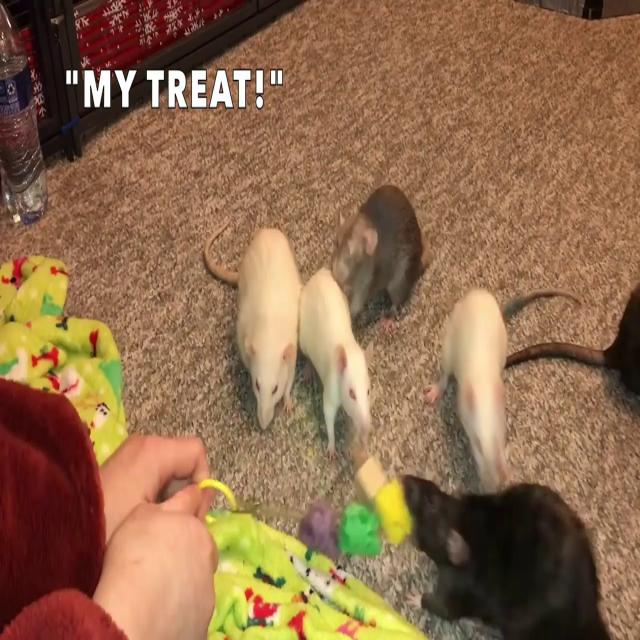rat: (402, 473, 612, 639), (205, 224, 302, 426), (428, 284, 513, 488), (300, 268, 373, 448), (328, 185, 423, 315)
